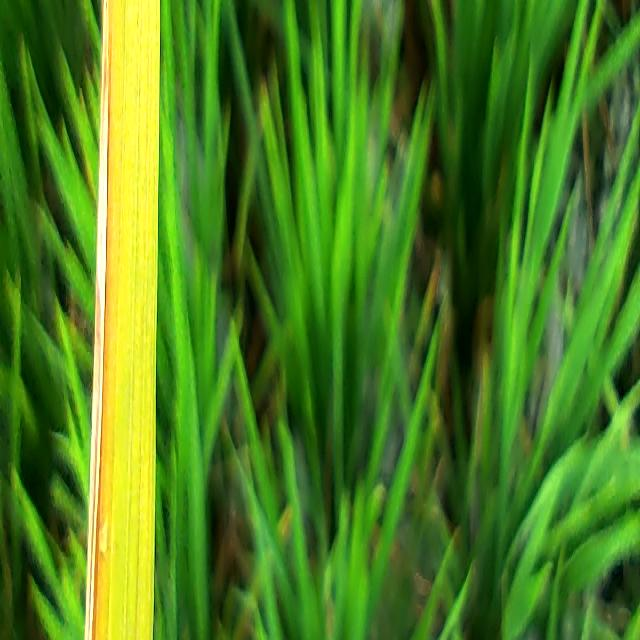BLB: (85, 0, 112, 640)
